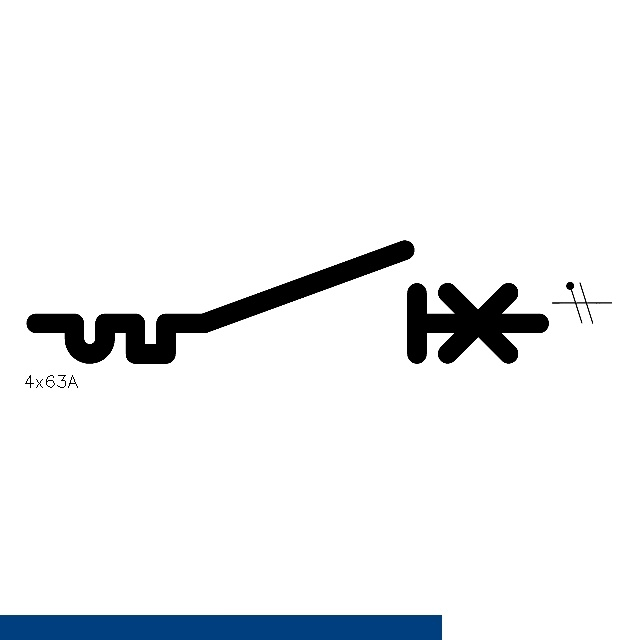interruptor_termomagnetico: (23, 237, 552, 367)
